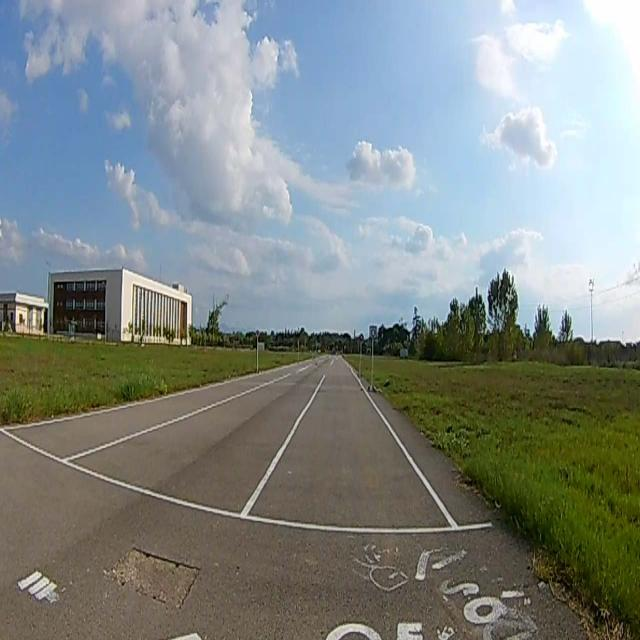durak: (369, 325, 376, 339)
